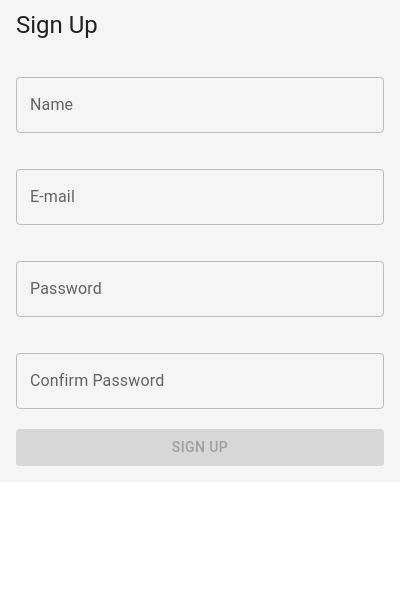
Test case: SigUpnPage (AuthForm) › should show errors for invalid data and keeps submit button disabled
Type "a" into the field labelled "Name".
click(200, 105); type("a")  # box [16,77,384,133]
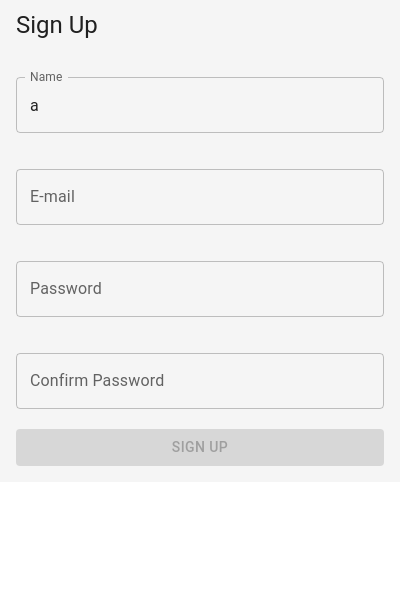
Clear the field labelled "Name" at (200, 105), box [16,77,384,133]
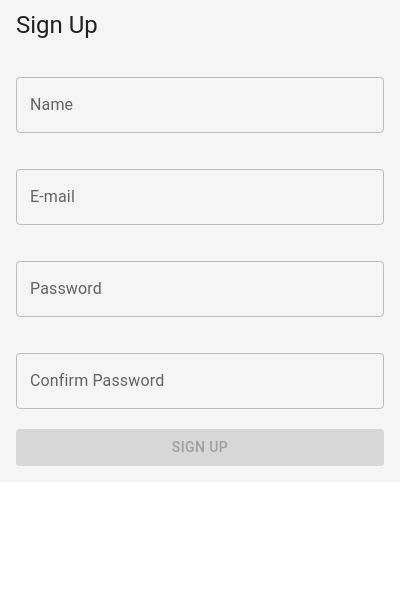
Type "email" into the field labelled "E-mail".
click(200, 197); type("email")  # box [16,169,384,225]
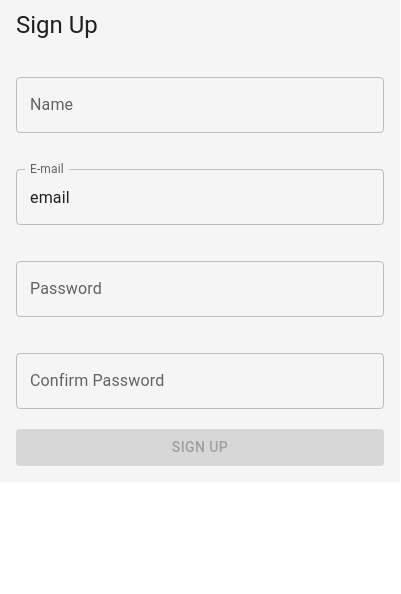
Type "123" into the password field labelled "Password".
click(200, 289); type("123")  # box [16,261,384,317]
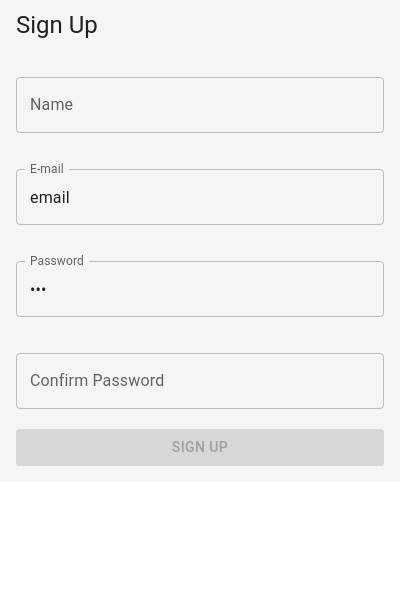
Type "321" into the password field labelled "Confirm Password".
click(200, 381); type("321")  # box [16,353,384,409]
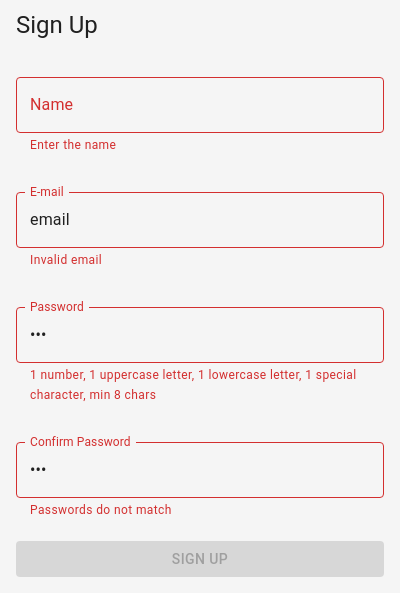
Now the text "Enter the name" is shown, box [30,138,116,152]
Now the text "Invalid email" is shown, box [30,253,102,267]
Now the text "1 number, 1 uppercase" is shown, box [30,368,356,402]
